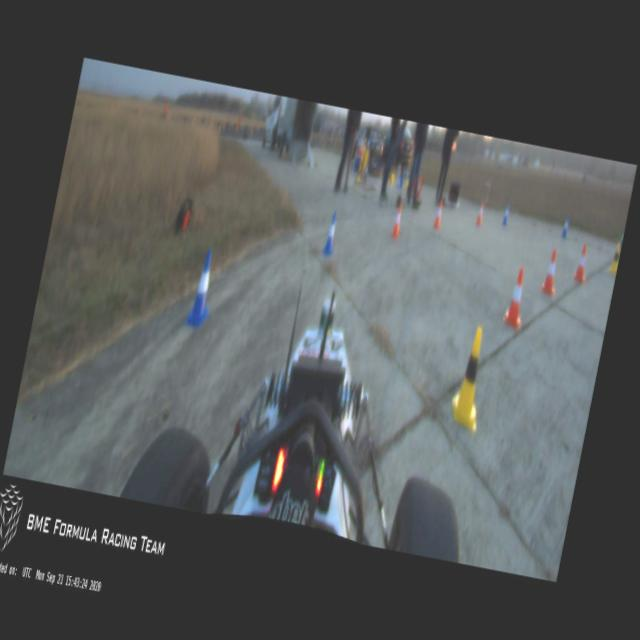blue_cone: (183, 252, 220, 330), (321, 211, 342, 258), (560, 214, 572, 239), (501, 204, 511, 226)
orange_cone: (502, 267, 532, 329), (540, 248, 563, 296), (574, 245, 592, 284), (390, 203, 404, 240), (432, 200, 446, 232), (476, 198, 486, 226)
yellow_cone: (448, 326, 494, 429), (608, 240, 622, 276)
